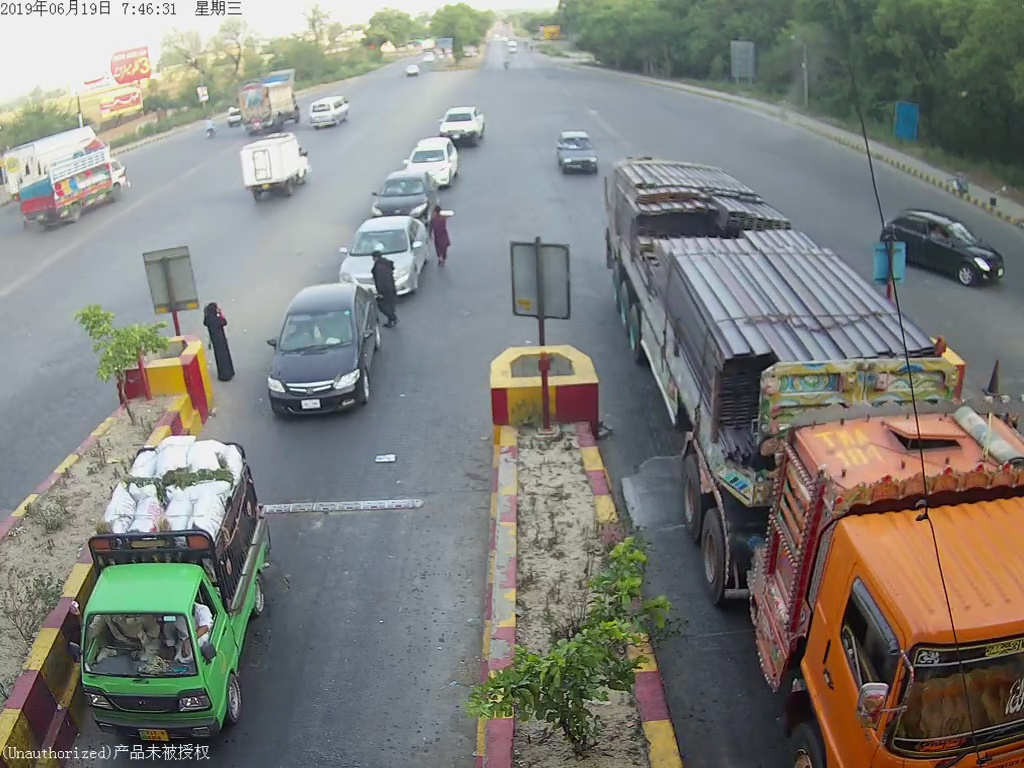Cat-1: (82, 439, 277, 731), (260, 288, 375, 422), (345, 219, 436, 293), (368, 171, 431, 214), (555, 125, 602, 178)
Cat-5: (616, 164, 1024, 761)
